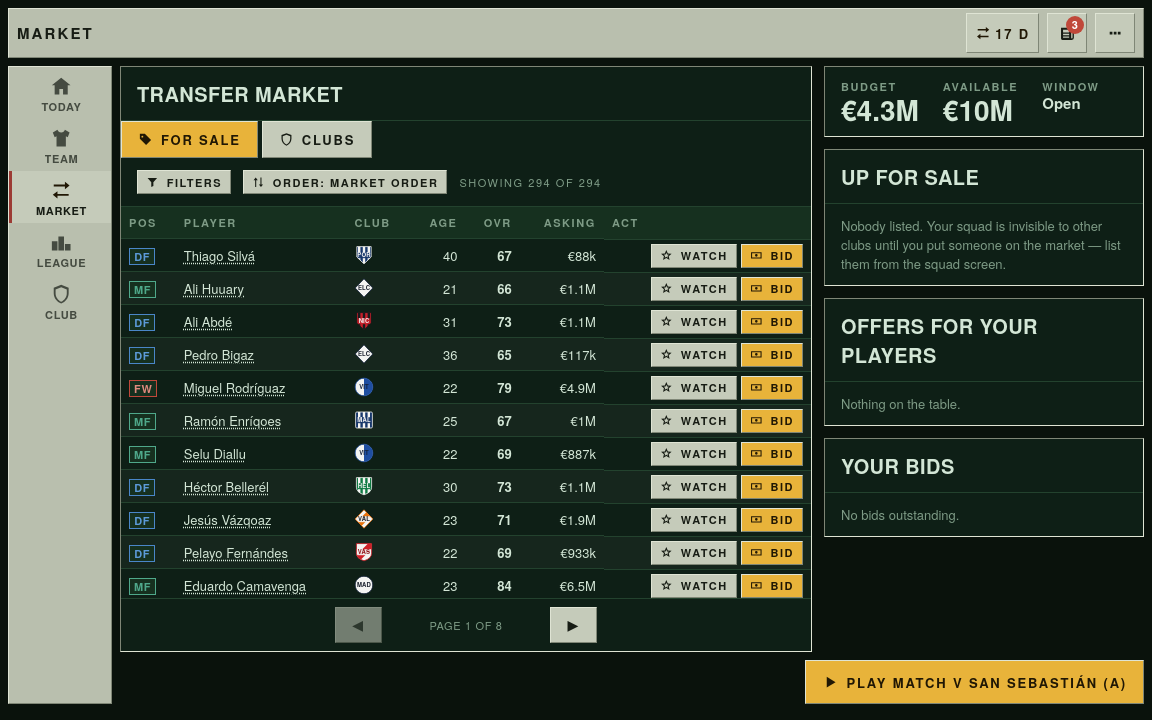
Test: the phone shell › opens the news from any screen, and opening it reads it
The width and height of the screenshot is (1152, 720).
Click the button "3": [1067, 33] box x1=1047 y1=13 x2=1087 y2=53
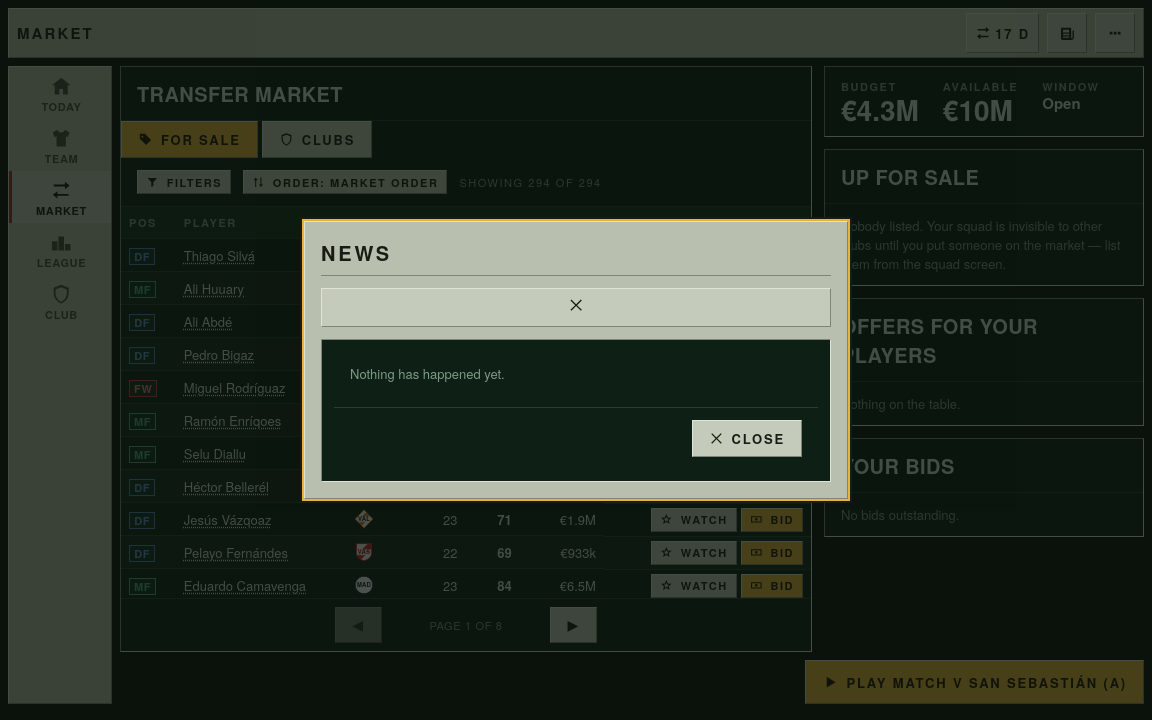
Now the dialog named "News" is shown, box x1=304 y1=221 x2=848 y2=499
